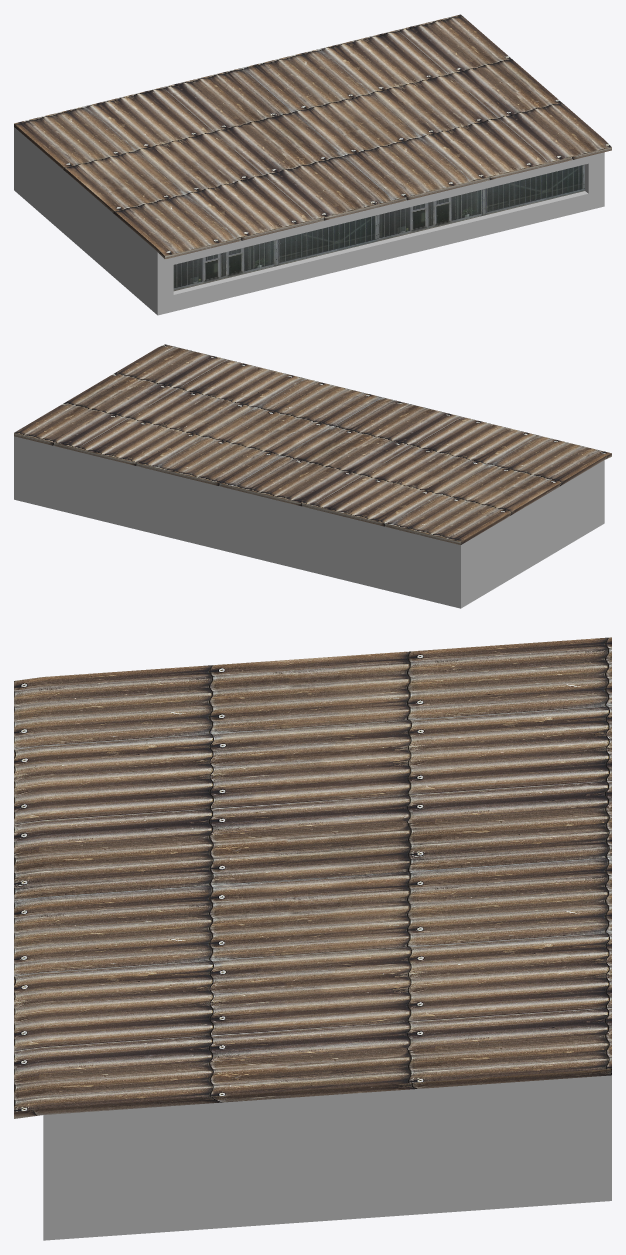
The model's file is rooftop01_lod0.fbx.
The picture shows the model from 3 angles, top to bottom: view 1: azimuth 30°, elevation 25°; view 2: azimuth 150°, elevation 25°; view 3: azimuth 270°, elevation 25°; orthographic projection. The views are drawn at different scales.
Parts seen in each view (by area): view 1: Mesh Object; view 2: Mesh Object; view 3: Mesh Object.
Part boxes in pixels (x1,y1,x2,y2): Mesh Object: (14, 14, 611, 315); Mesh Object: (14, 344, 611, 608); Mesh Object: (14, 637, 611, 1240).
Bounding box in the file's own units: 9.1 × 1.69 × 5.33.
